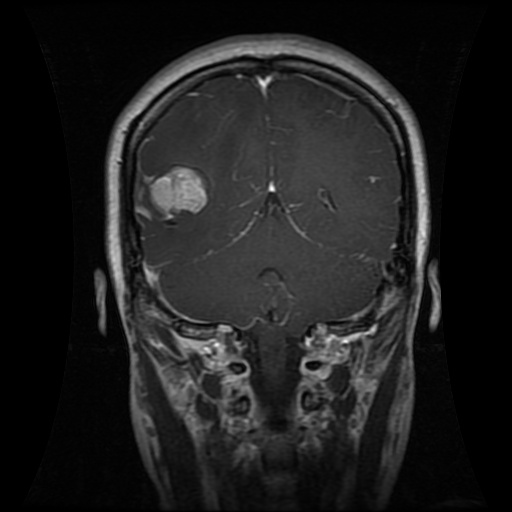glioma: (134, 161, 214, 227)
